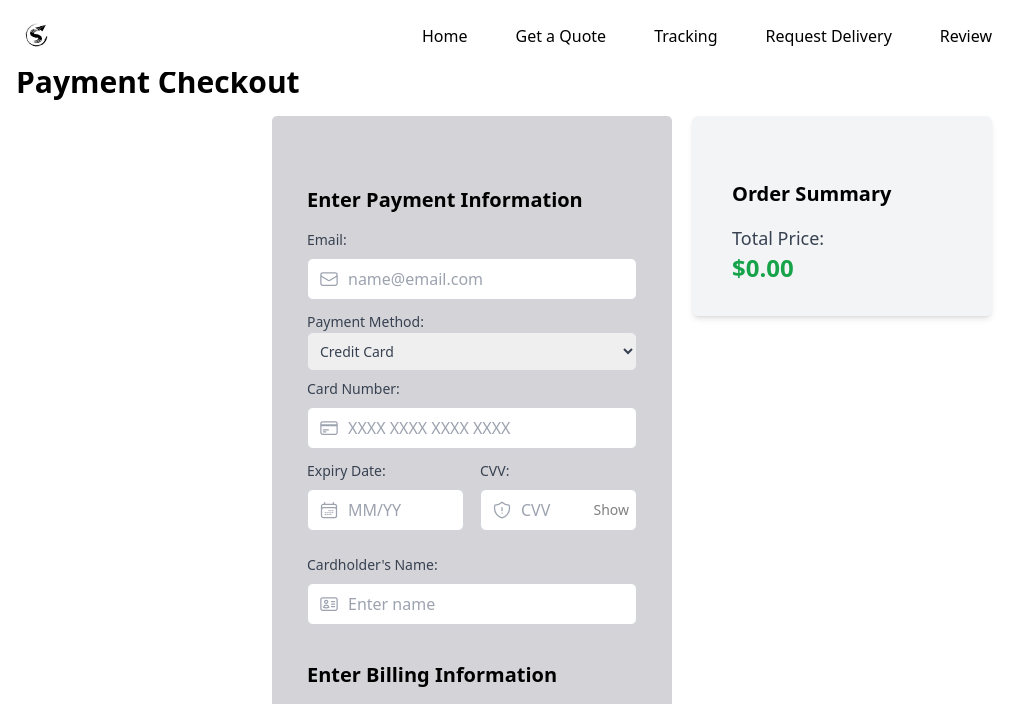
PaymentForm Component › allows switching between Credit Card and PayPal payment methods
This screenshot has width=1024, height=704.
# Switch to PayPal and check if PayPal image is visible
Select "PayPal" in the dropdown at [472, 352], box [307,332,637,371]
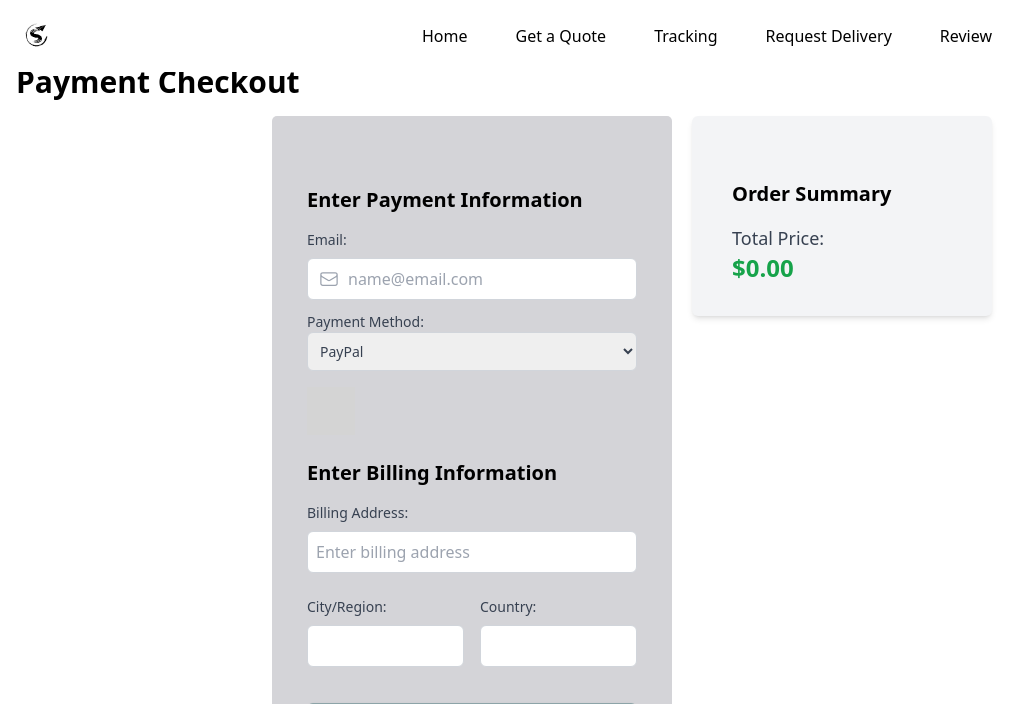
# Switch back to Credit Card and check if the credit card input fields are visible
Select "Credit Card" in the dropdown at [472, 352], box [307,332,637,371]
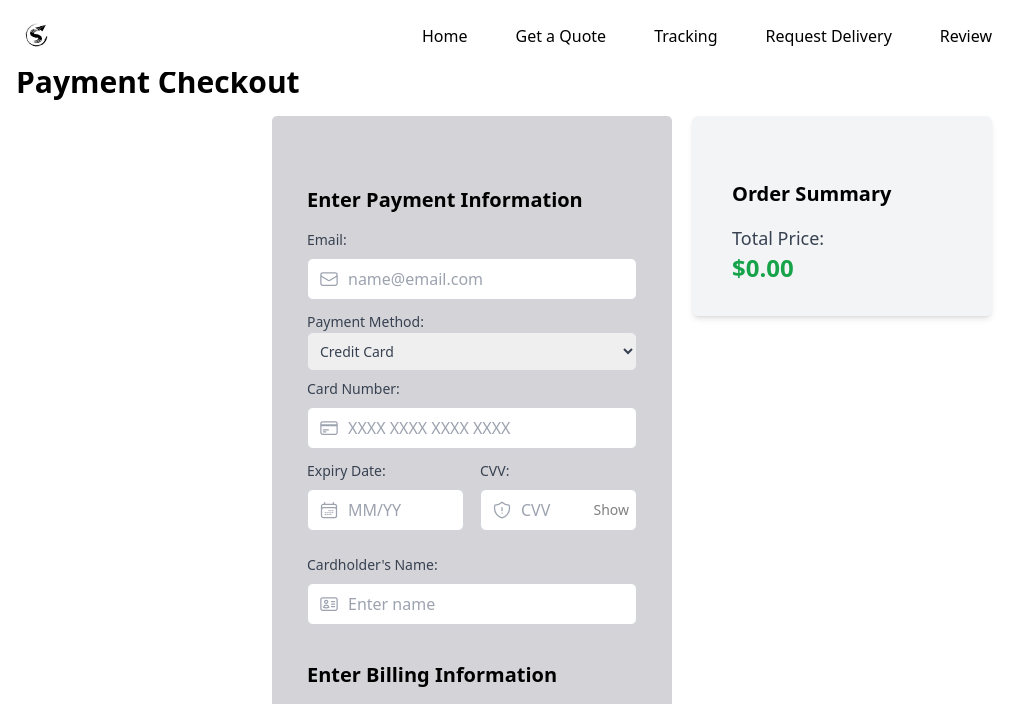
Expected: the field with placeholder "XXXX XXXX XXXX XXXX" is shown, [307,407,637,449]
Expected: the field with placeholder "MM/YY" is shown, [307,489,464,531]
